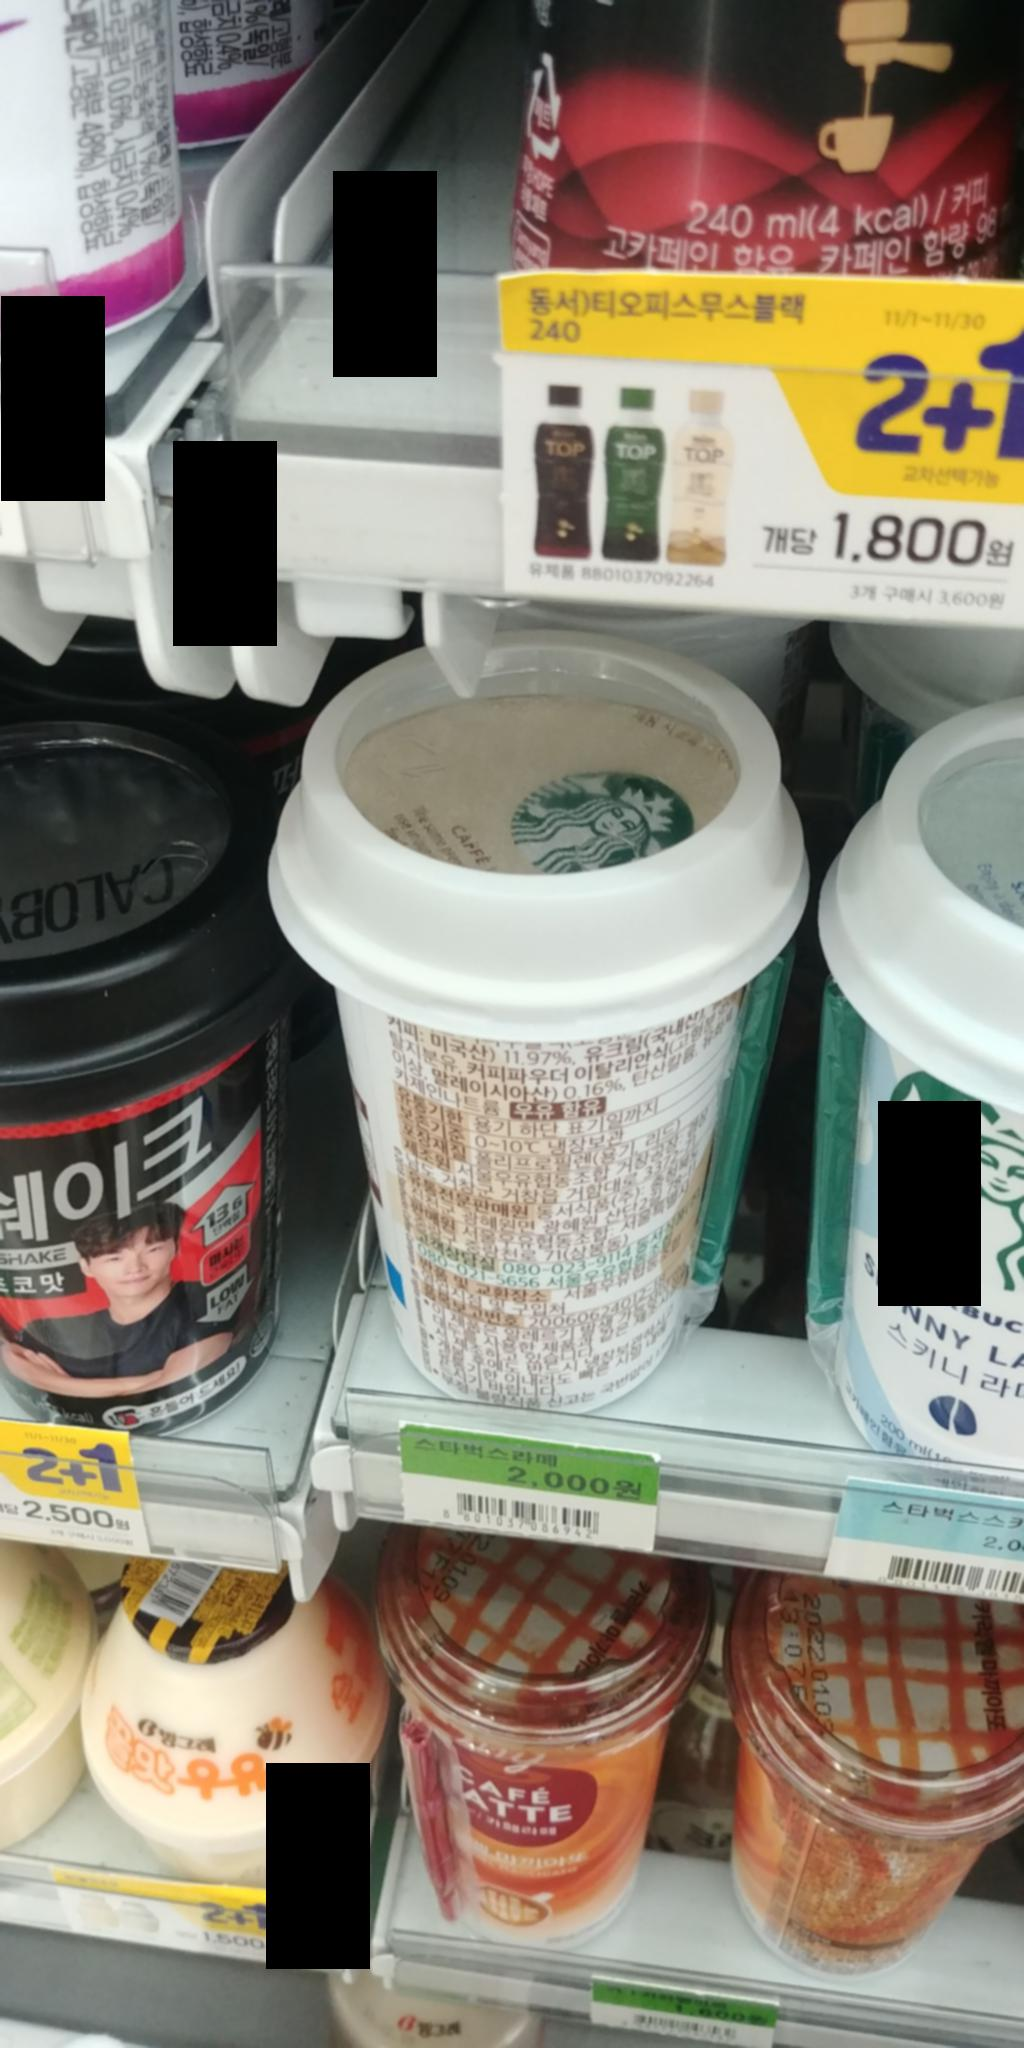starbucks_cafelatte: (257, 619, 839, 1437)
